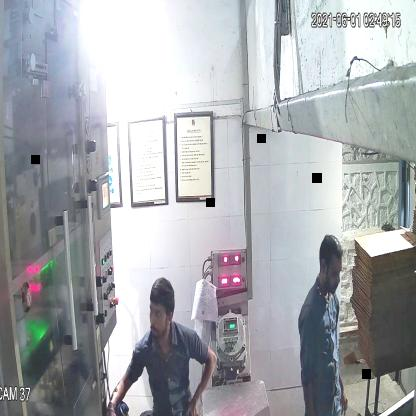no_goggles: (143, 298, 177, 324)
